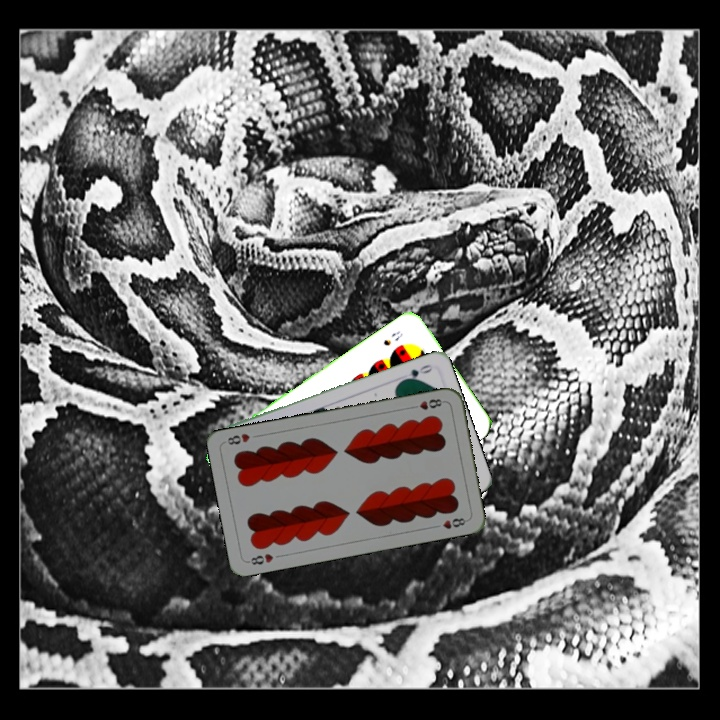GO: (397, 360, 435, 384)
H8: (407, 395, 447, 412), (244, 549, 276, 567)
S8: (379, 327, 406, 349)
